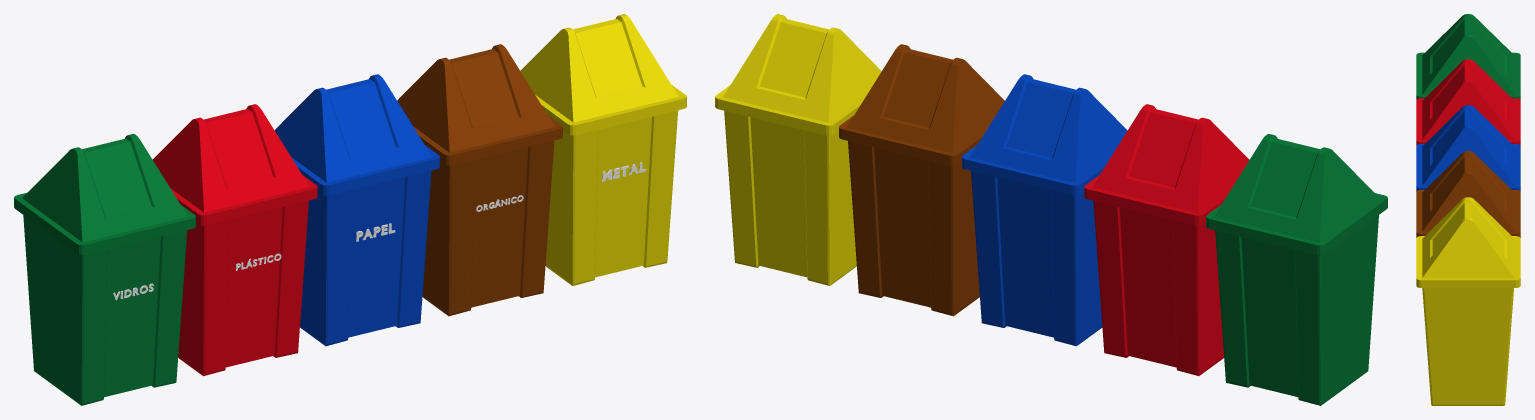
File: Latas.fbx
3 renders of one model, left to right at view 1: azimuth 30°, elevation 25°; view 2: azimuth 150°, elevation 25°; view 3: azimuth 270°, elevation 25°, orthographic. The views are drawn at different scales.
Parts seen in each view (by area): view 1: O-Cestos; view 2: O-Cestos; view 3: O-Cestos.
Boxes of the visible parts, x1,y1,x2,y2 form: O-Cestos: (14,14,686,405); O-Cestos: (715,14,1387,405); O-Cestos: (1416,14,1520,405).
Bounding box in the file's own units: 3866 × 1423 × 747.
